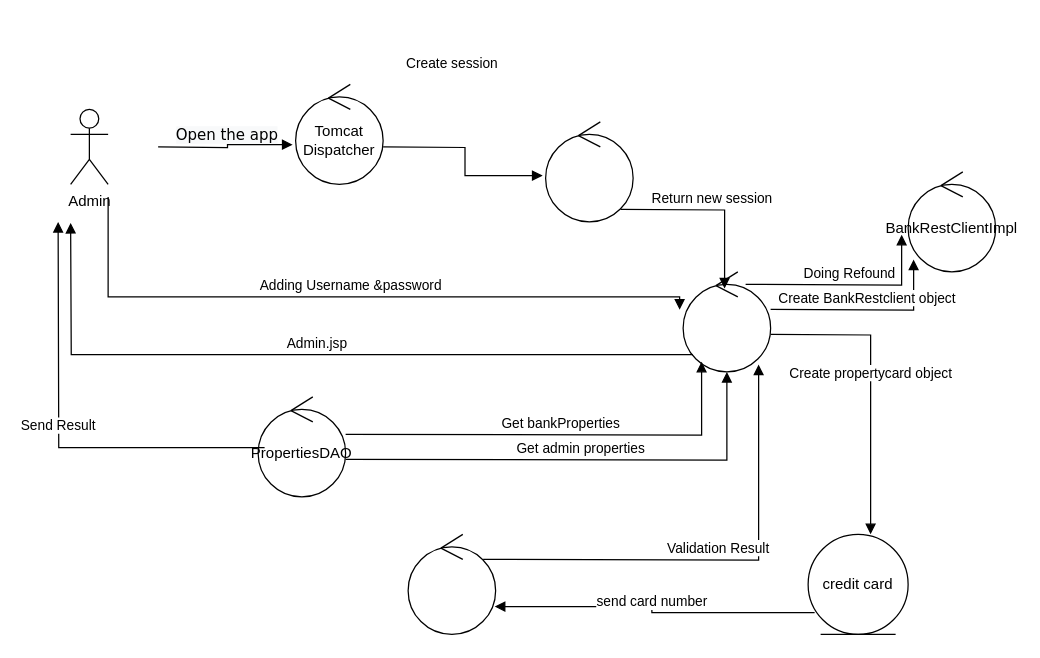
This 1040x658 diagram has some shape labels left out. Here are the shapes that lost their labels. From the top down, the centre of each, then its label:
At (x=588, y=171): "Session".
At (x=726, y=321): "MVC controller".
At (x=451, y=583): "RegexCardValidator".
